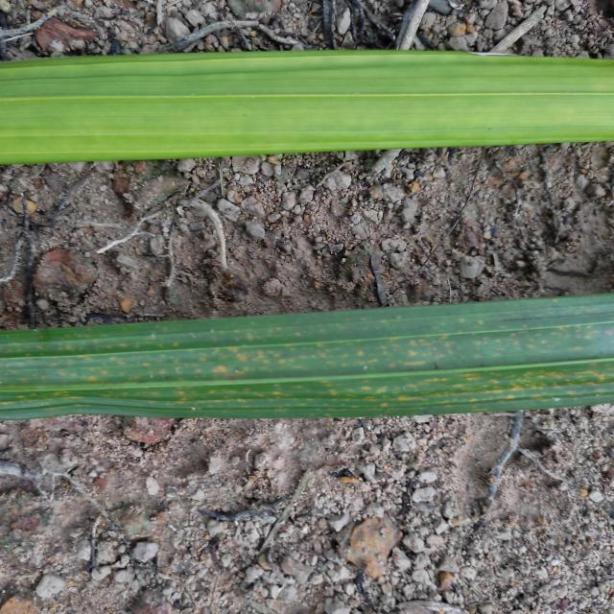nitrogen: (0, 46, 614, 163)
